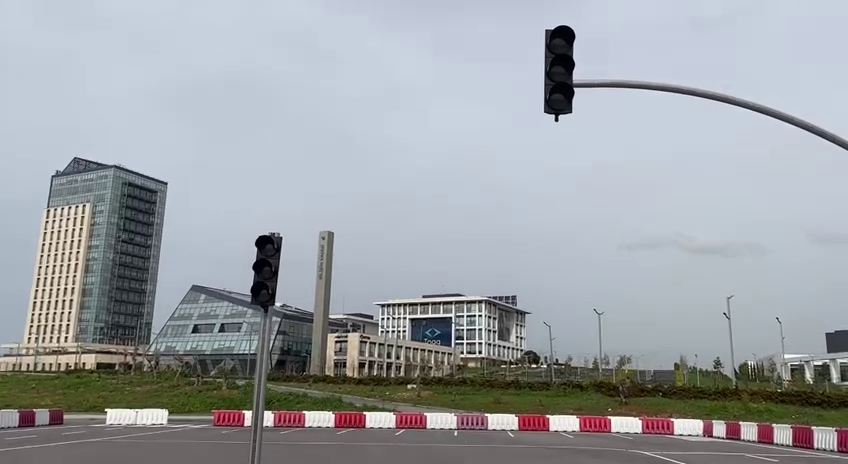trafficLight: (538, 22, 580, 126), (247, 229, 287, 315)
